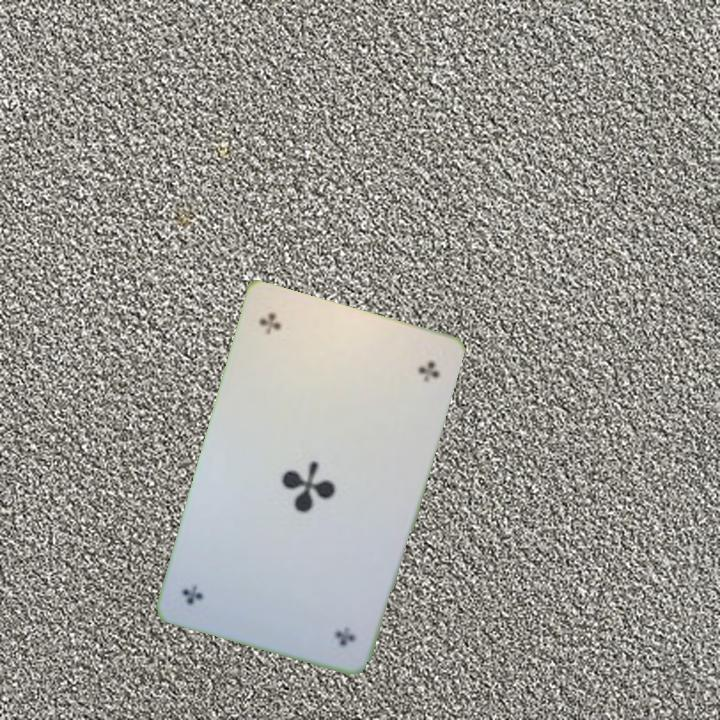c_a.png: (264, 551, 382, 660), (239, 299, 357, 407)
